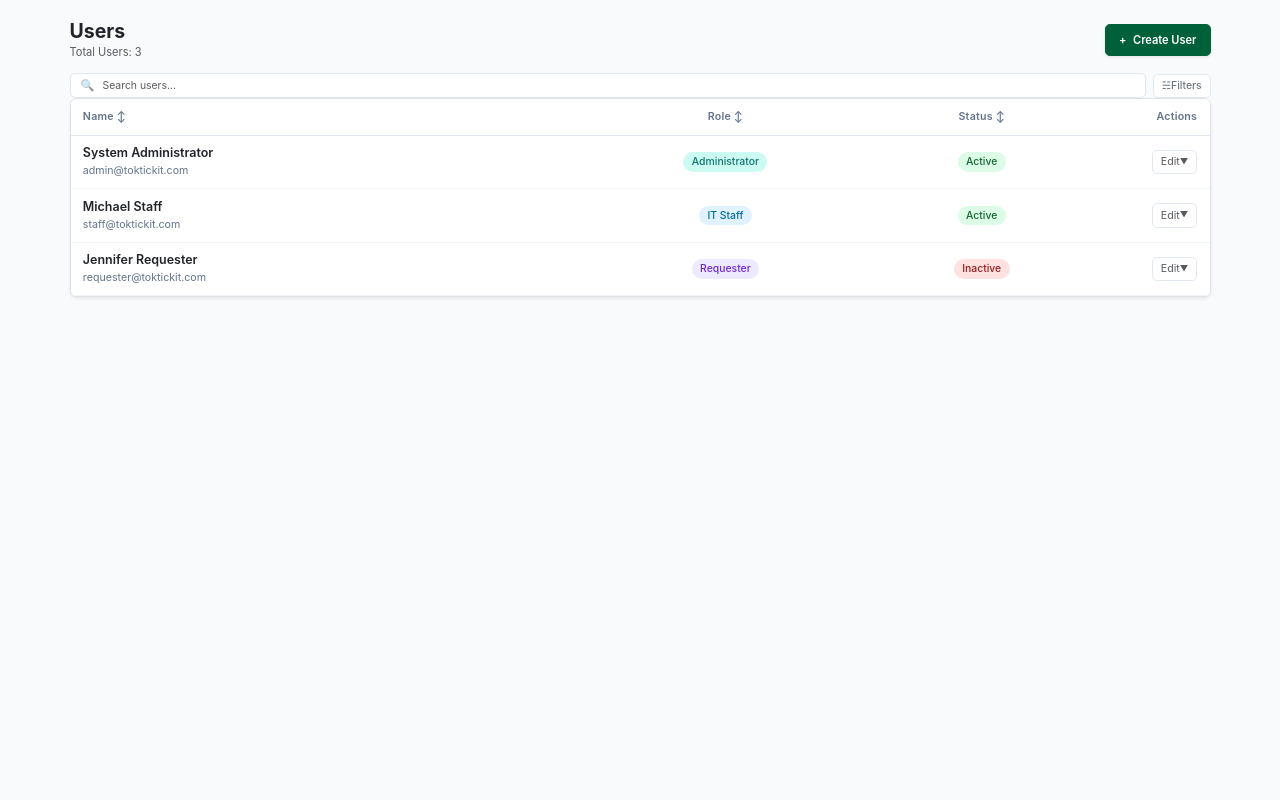
Test: Lab 03 Administrator User Management UI Component Tests (UserManagement.test.tsx) › TC-UI-ADMIN-05: Duplicate email error from API displays red validation error feedback
Click the button with test id "create-user-btn" at (1158, 40), box [1105, 24, 1210, 56]
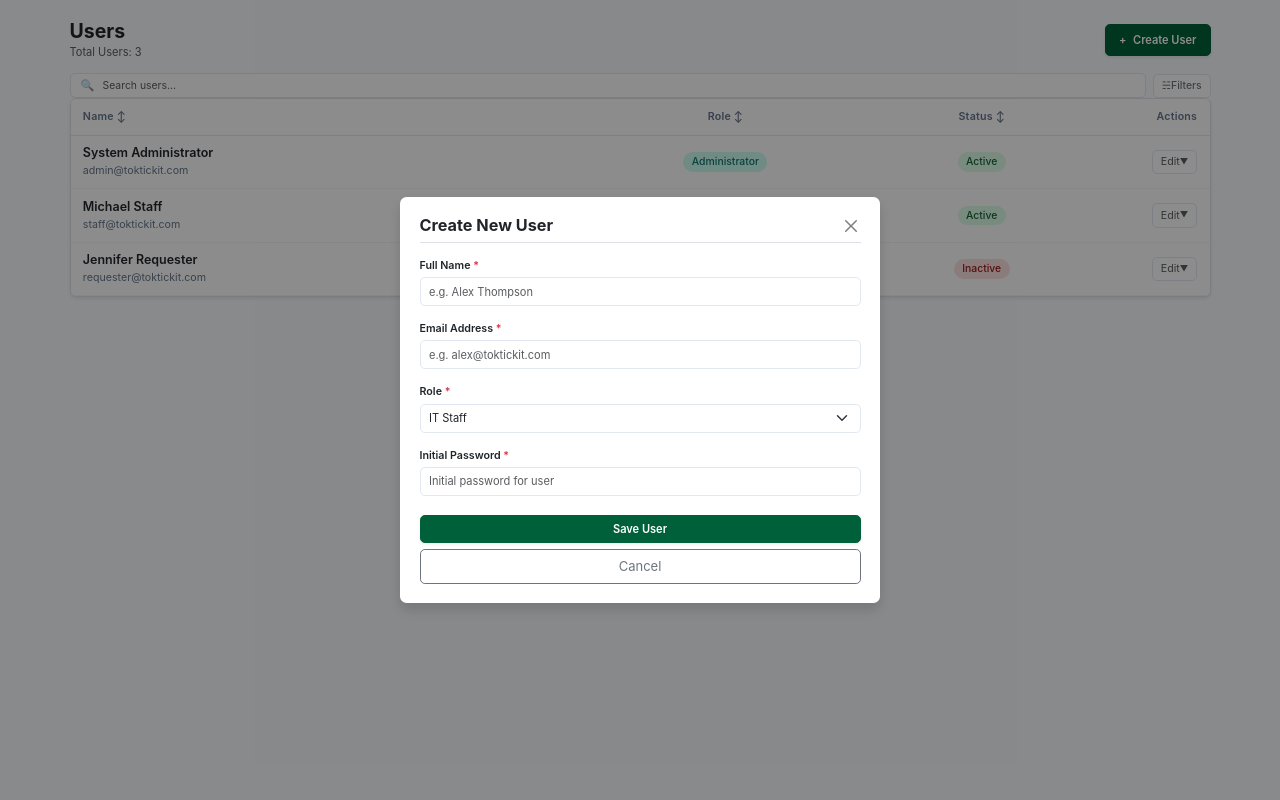
Type "Duplicate Person" into the field with test id "create-user-name" at (640, 292), box [420, 277, 860, 306]
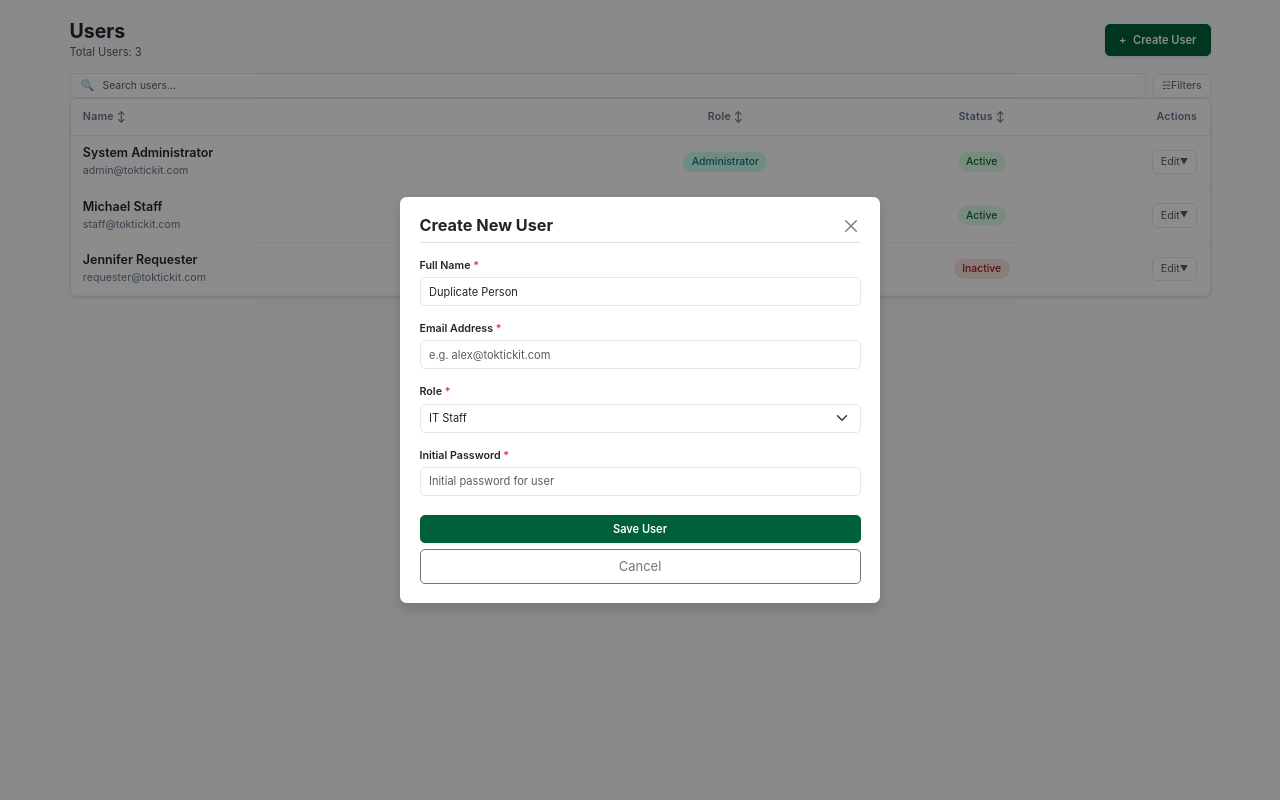
Type "staff@toktickit.com" into the field with test id "create-user-email" at (640, 355), box [420, 340, 860, 369]
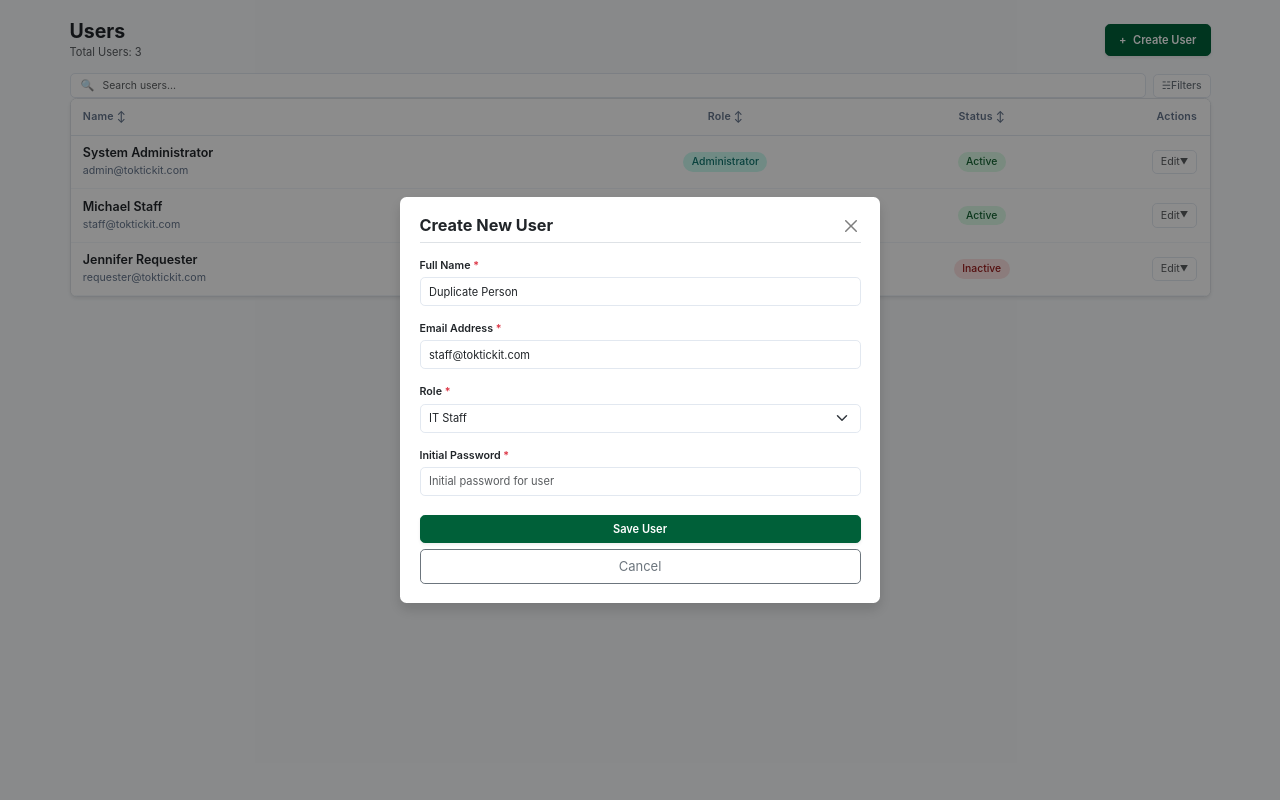
Type "InitialPassword123!" into the password field with test id "create-user-password" at (640, 481), box [420, 467, 860, 496]
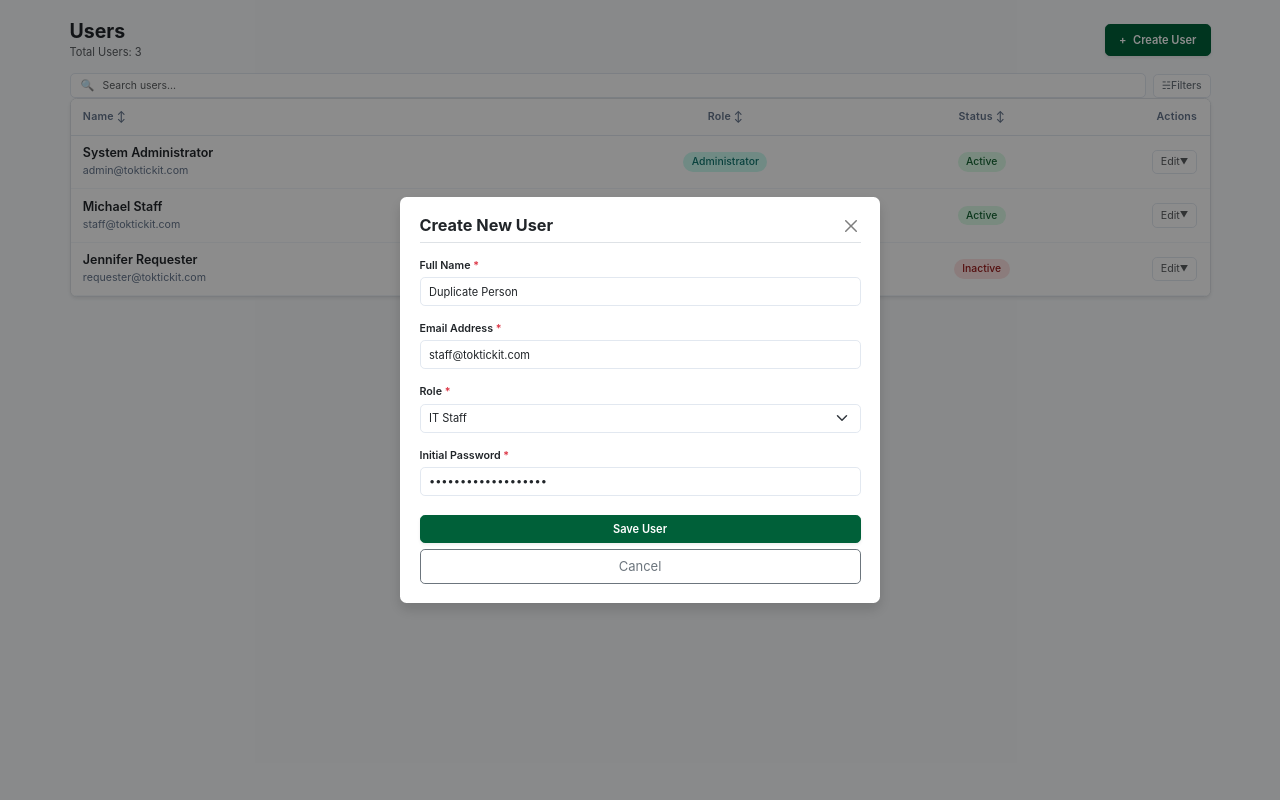
Click the button with test id "save-create-user-btn" at (640, 529), box [420, 515, 860, 543]
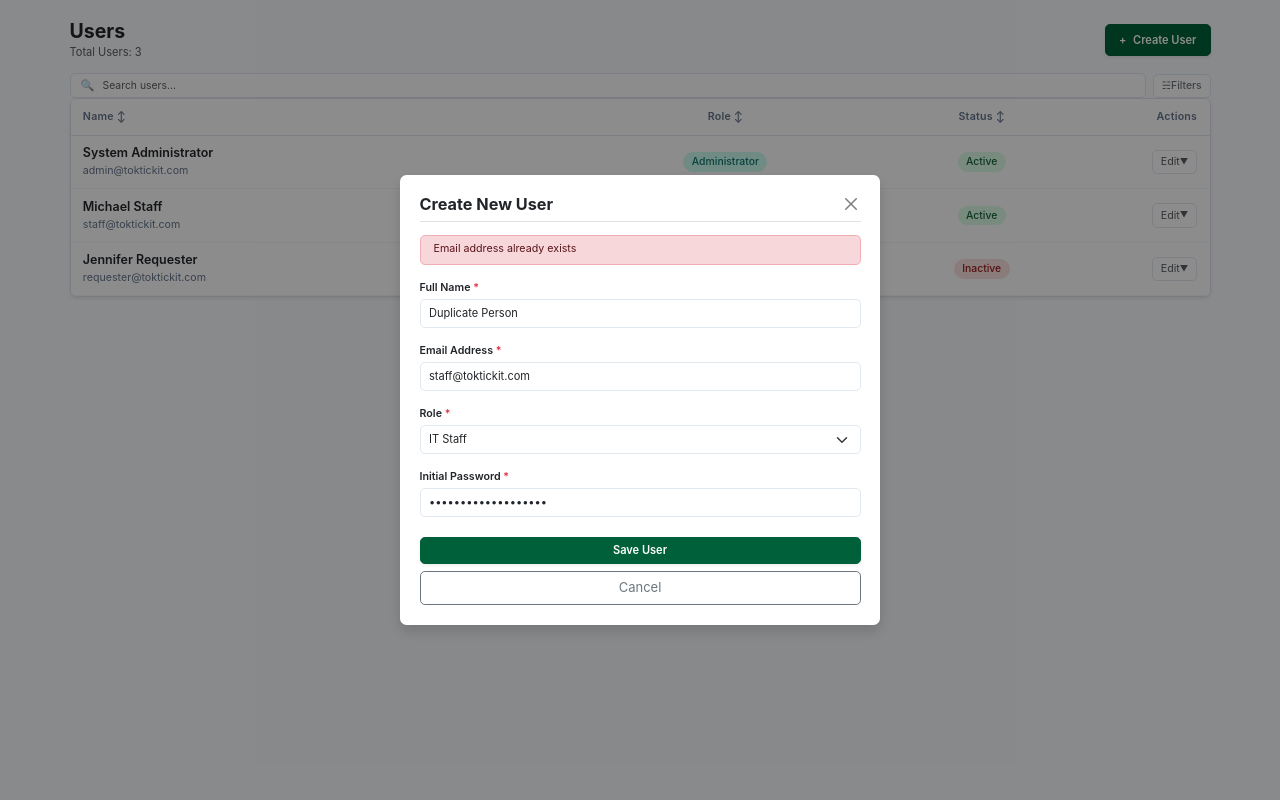
Expected: the text with test id "user-form-error" reads "Email address already exists", [434, 242, 576, 255]
